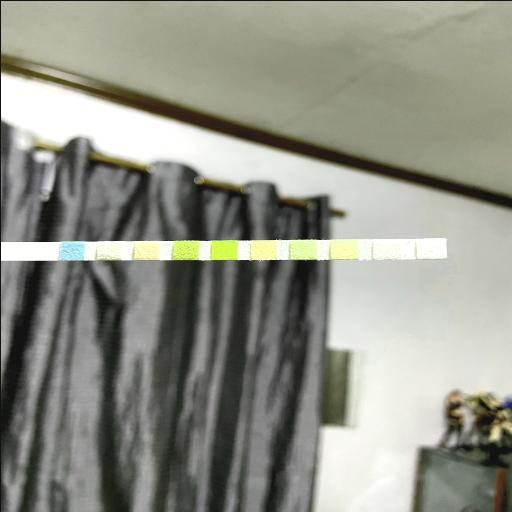Bilirubin: (98, 242, 120, 258)
Blood: (211, 240, 236, 258)
Glucose: (60, 242, 82, 259)
Ketone: (136, 241, 158, 258)
Leukocytes: (416, 238, 444, 258)
Nitrite: (372, 239, 400, 258)
Protein: (291, 240, 317, 258)
SpGravity: (174, 240, 196, 258)
Urobilinogen: (330, 240, 356, 258)
pH: (251, 240, 275, 258)
strip: (0, 238, 446, 260)
